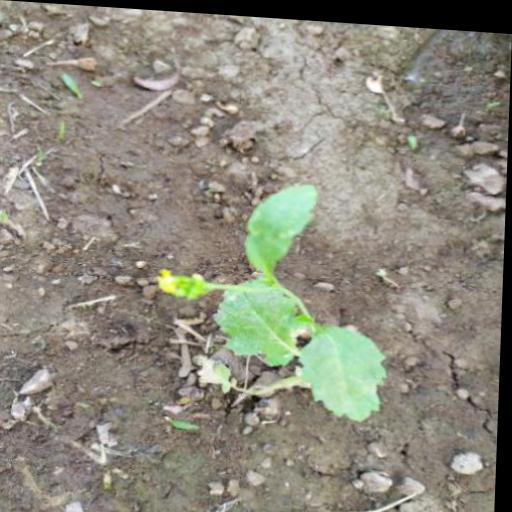weed: (151, 168, 396, 429)
